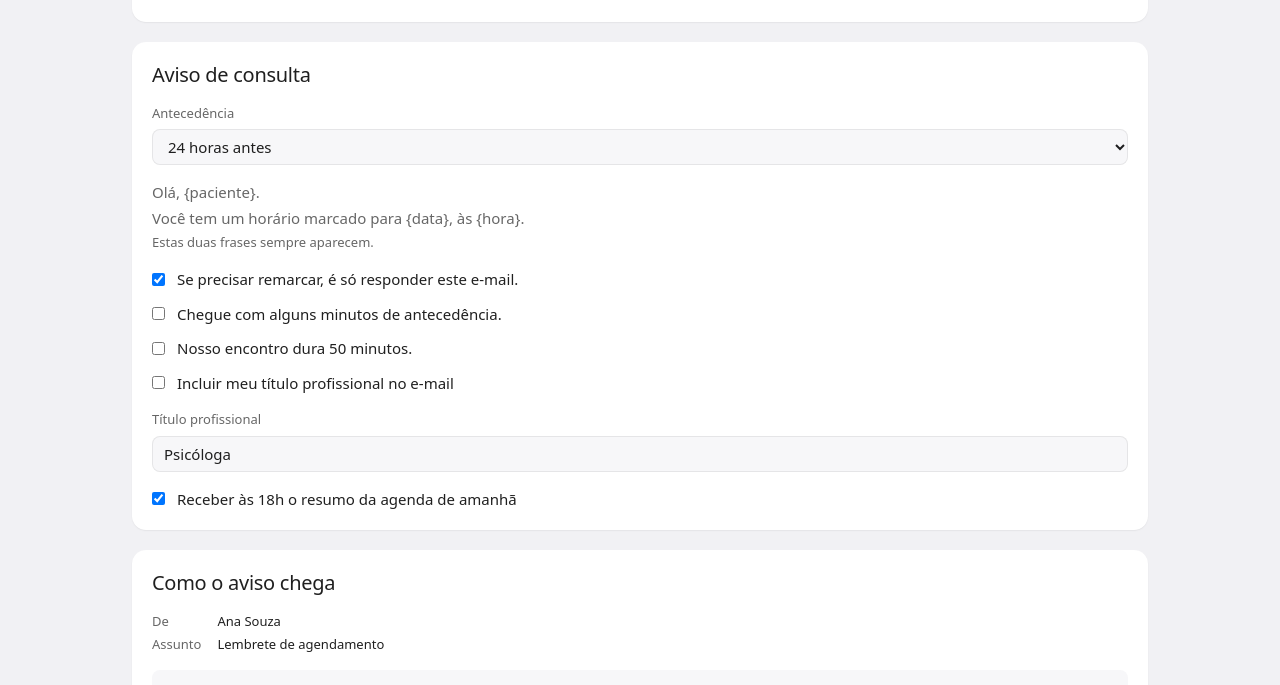
Test case: AjustesPage › a previa muda ao marcar uma frase e ao ligar o titulo, sem salvar
(page scrolled)
Expected: the text "Ana Souza" is shown, [217,612,281,630]
Click the checkbox labelled "Nosso encontro dura 50 minutos." at [158, 348], box [152,342,165,355]
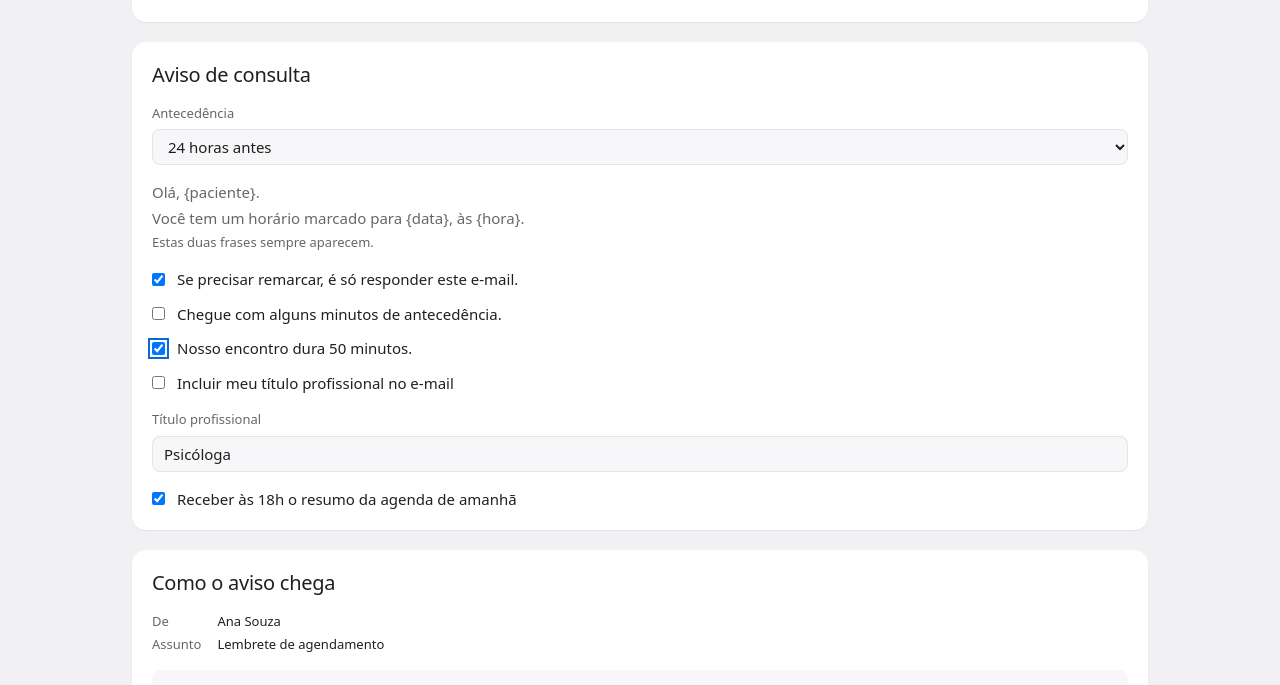
Click the checkbox labelled "Incluir meu título profissional no e-mail" at [158, 383], box [152,376,165,389]
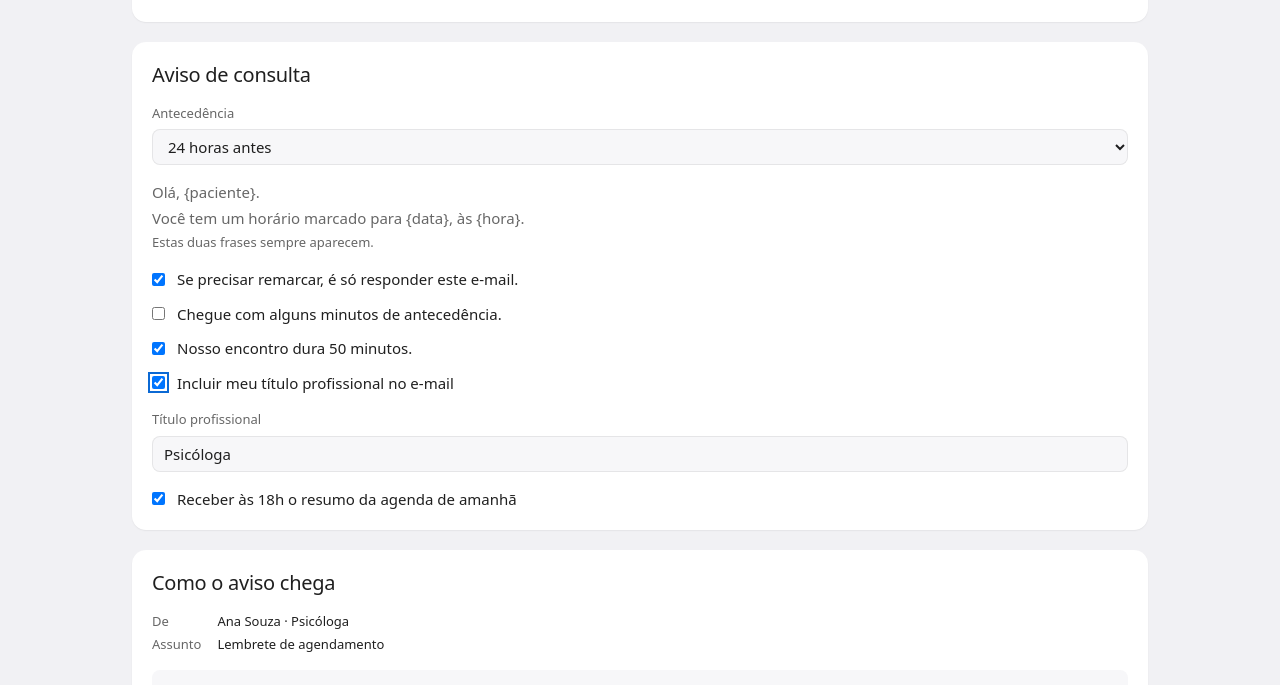
Now the text "Ana Souza · Psicóloga" is shown, box [217,612,349,630]
Clear the field labelled "Título profissional" at [640, 454], box [152,436,1128,472]
(page scrolled)
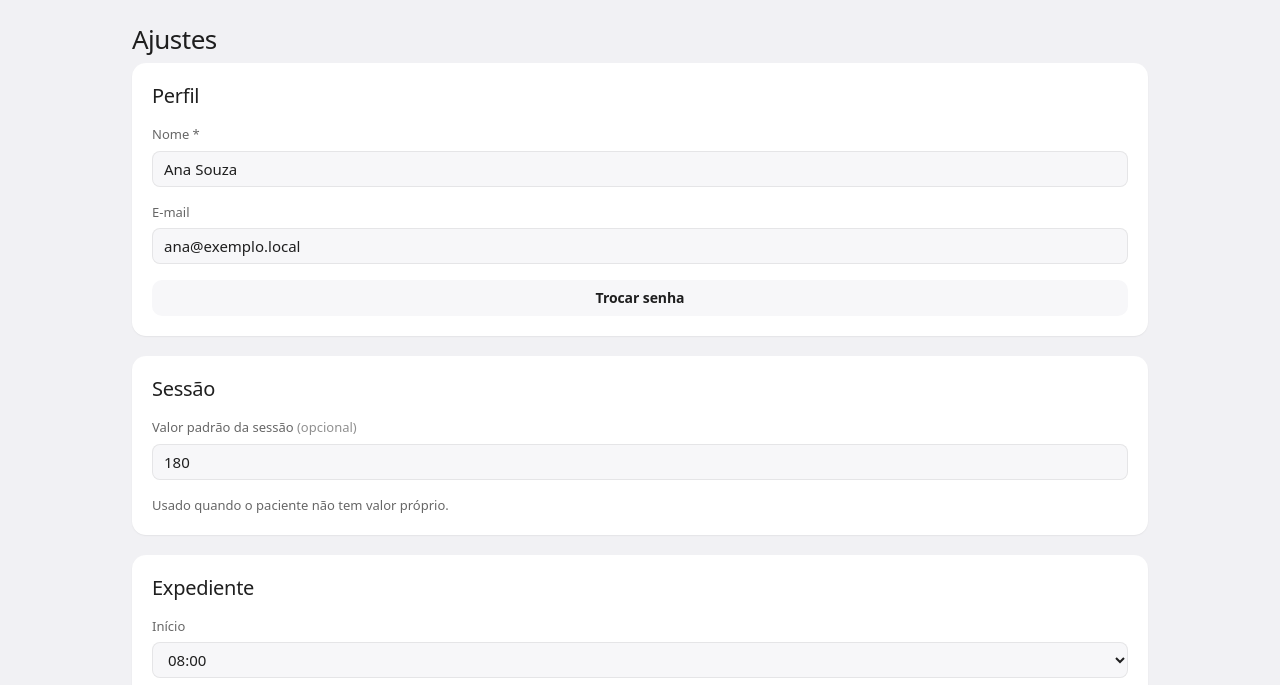
Replace the text in the field labelled "Nome *" with "Bia" at [640, 168], box [152,150,1128,186]
(page scrolled)
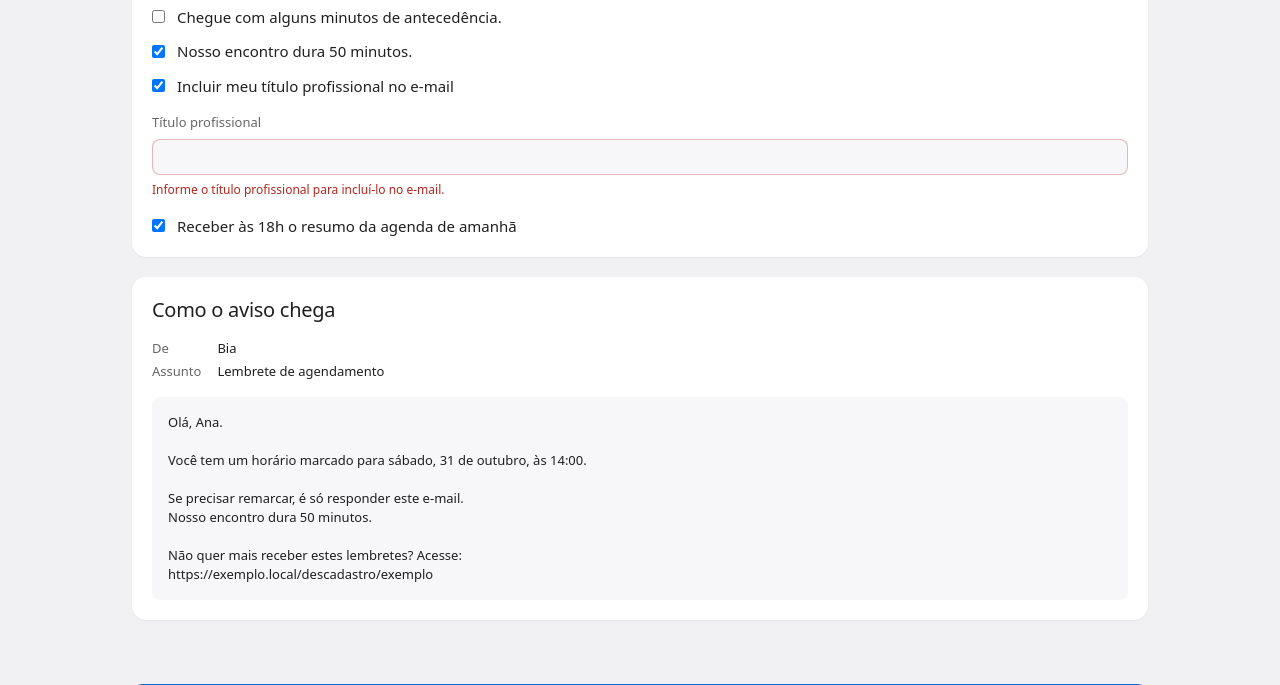
Now the text "Bia" is shown, box [217,339,236,357]
